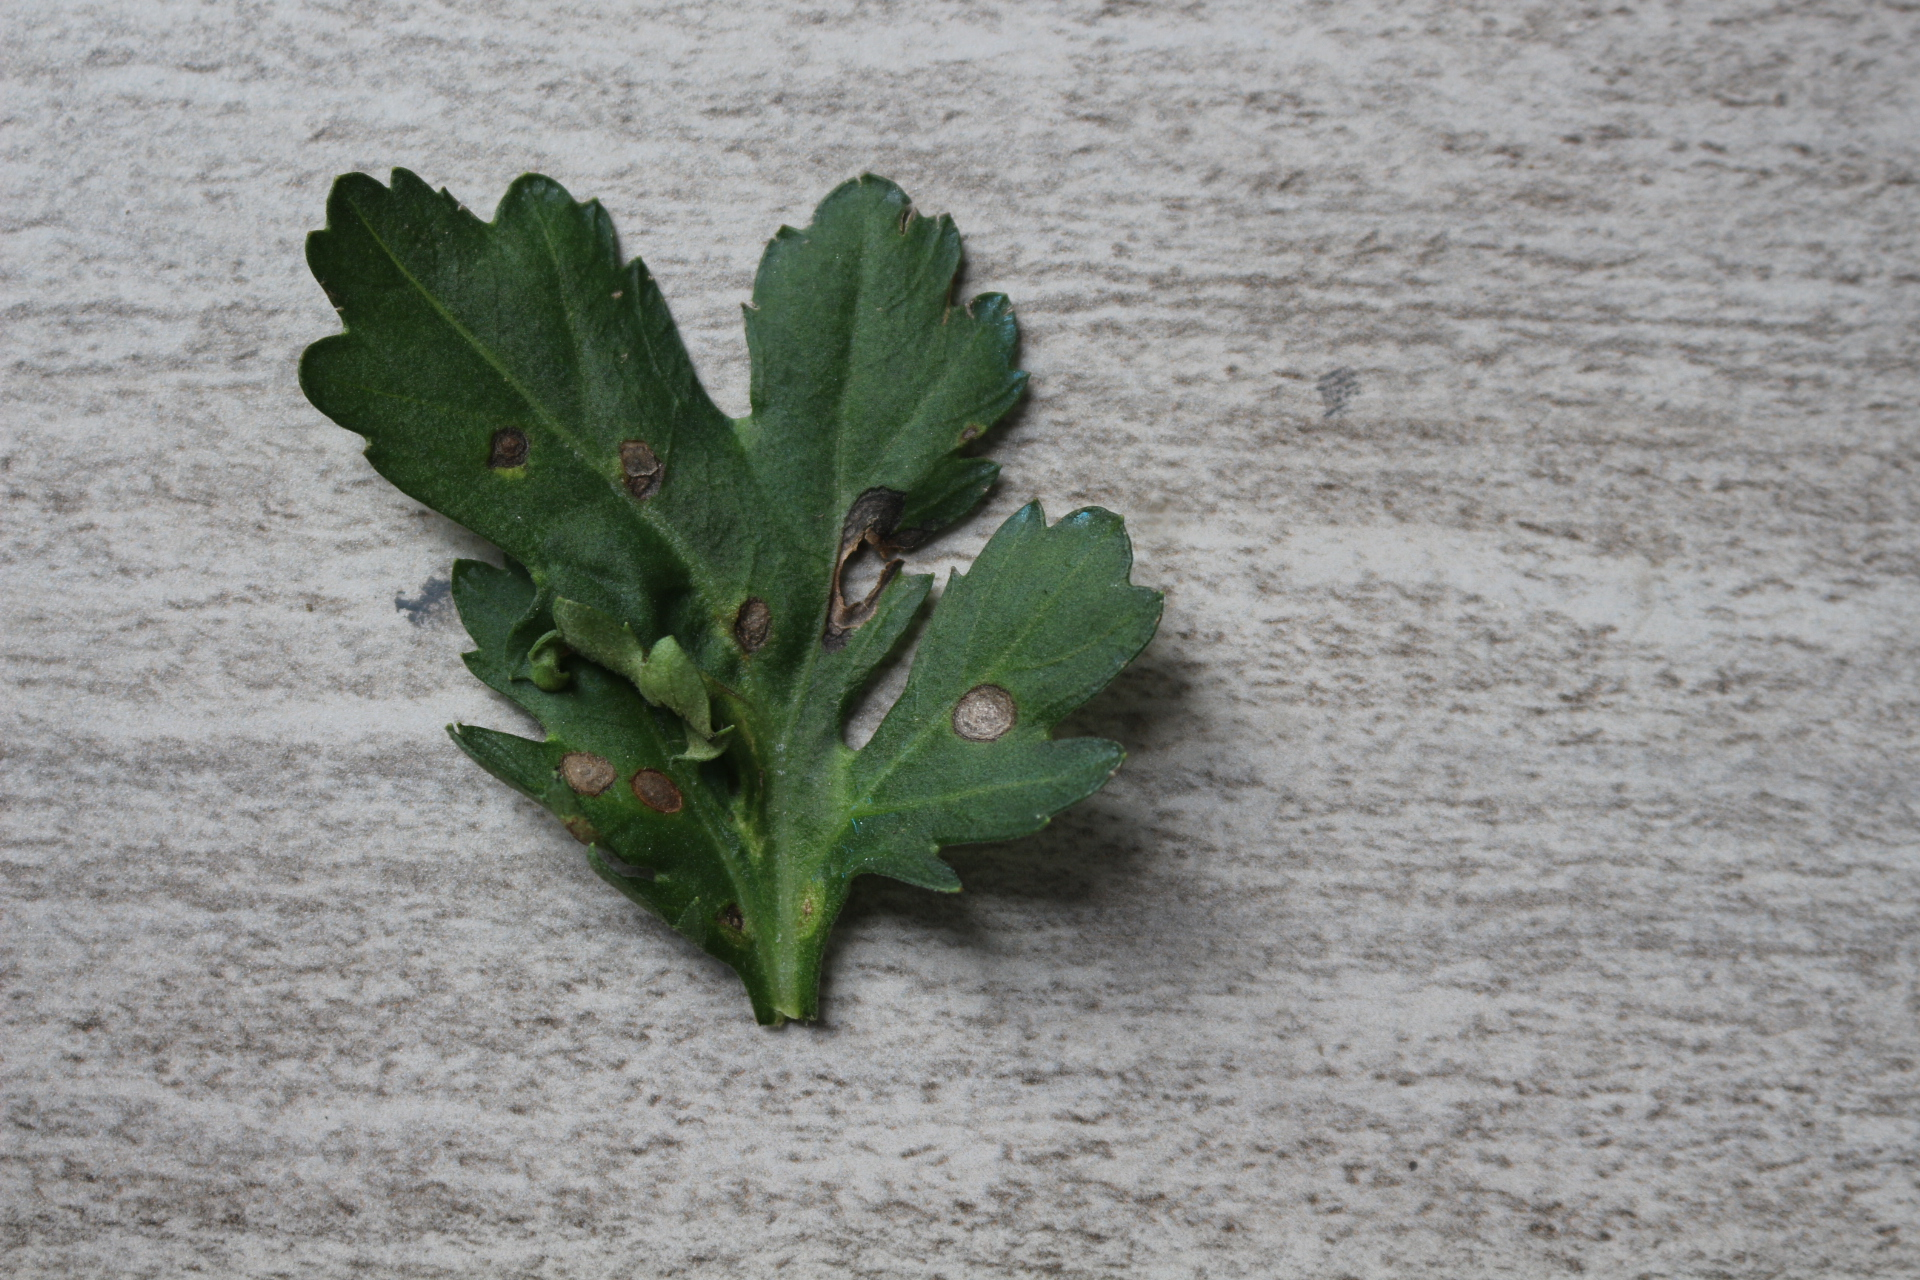namden: (947, 681, 1020, 749), (469, 423, 546, 477), (609, 436, 670, 501), (563, 749, 624, 801), (630, 767, 689, 819), (729, 594, 776, 657)
